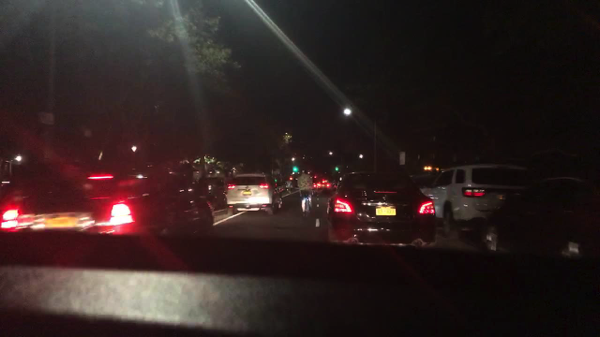bike: (298, 190, 315, 219)
car: (0, 159, 214, 245), (481, 176, 599, 260), (325, 171, 436, 249), (421, 167, 534, 239), (224, 173, 283, 217), (408, 174, 437, 194), (319, 181, 331, 190)
rider: (296, 169, 316, 215)
traffic light: (293, 164, 298, 173), (336, 165, 338, 172)
